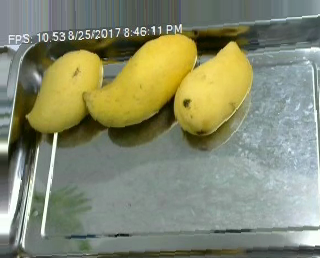Mango: (81, 35, 197, 134), (172, 36, 262, 149), (26, 53, 108, 137)
